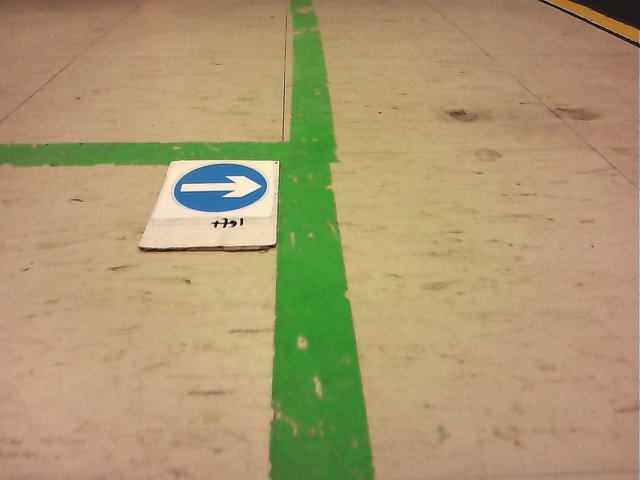TURN RIGHT: (173, 163, 267, 212)
